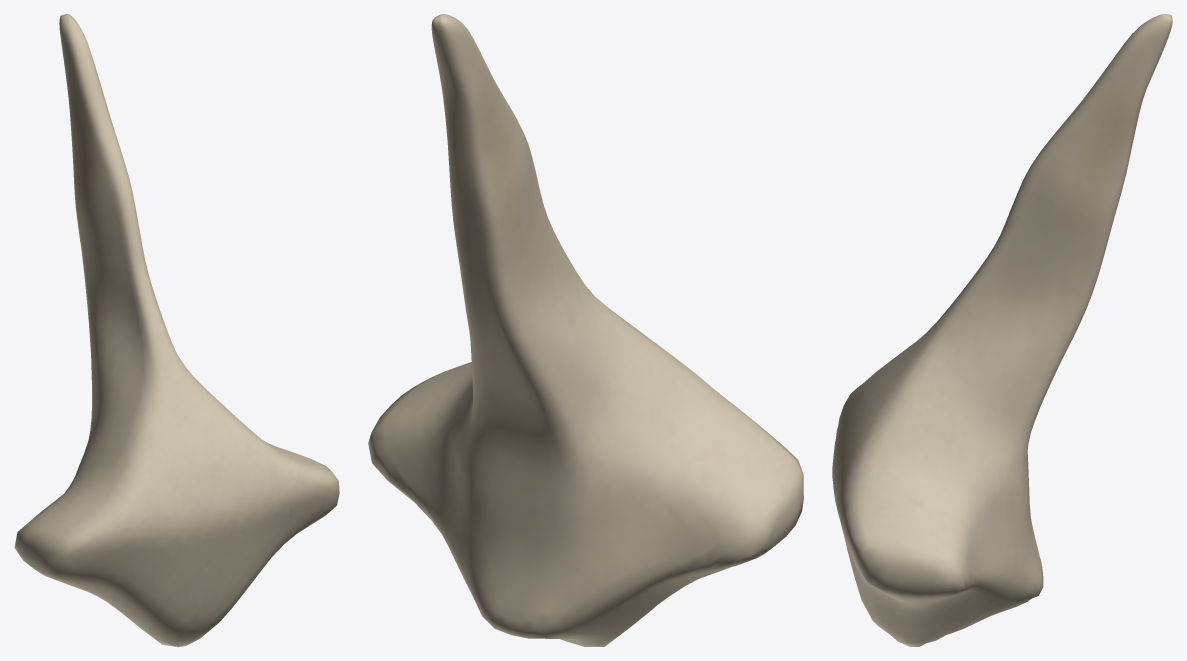
Rendered from vertebrae thoracicae 03.fbx.
3 renders of one model, left to right at view 1: azimuth 30°, elevation 25°; view 2: azimuth 150°, elevation 25°; view 3: azimuth 270°, elevation 25°, orthographic. The views are drawn at different scales.
Visible parts, largest first — view 1: vertebrae thoracicae 03; view 2: vertebrae thoracicae 03; view 3: vertebrae thoracicae 03.
Boxes of the visible parts, <box> form: vertebrae thoracicae 03: <box>14,14,339,646</box>; vertebrae thoracicae 03: <box>368,14,803,646</box>; vertebrae thoracicae 03: <box>832,14,1172,646</box>.
Size of the model in its own units: 8.92 by 15.92 by 7.81.
